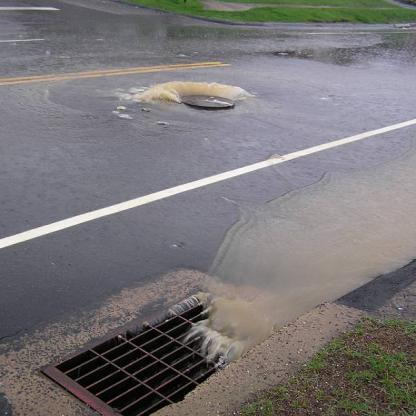drainage overflow-repair-: (57, 56, 271, 143)
